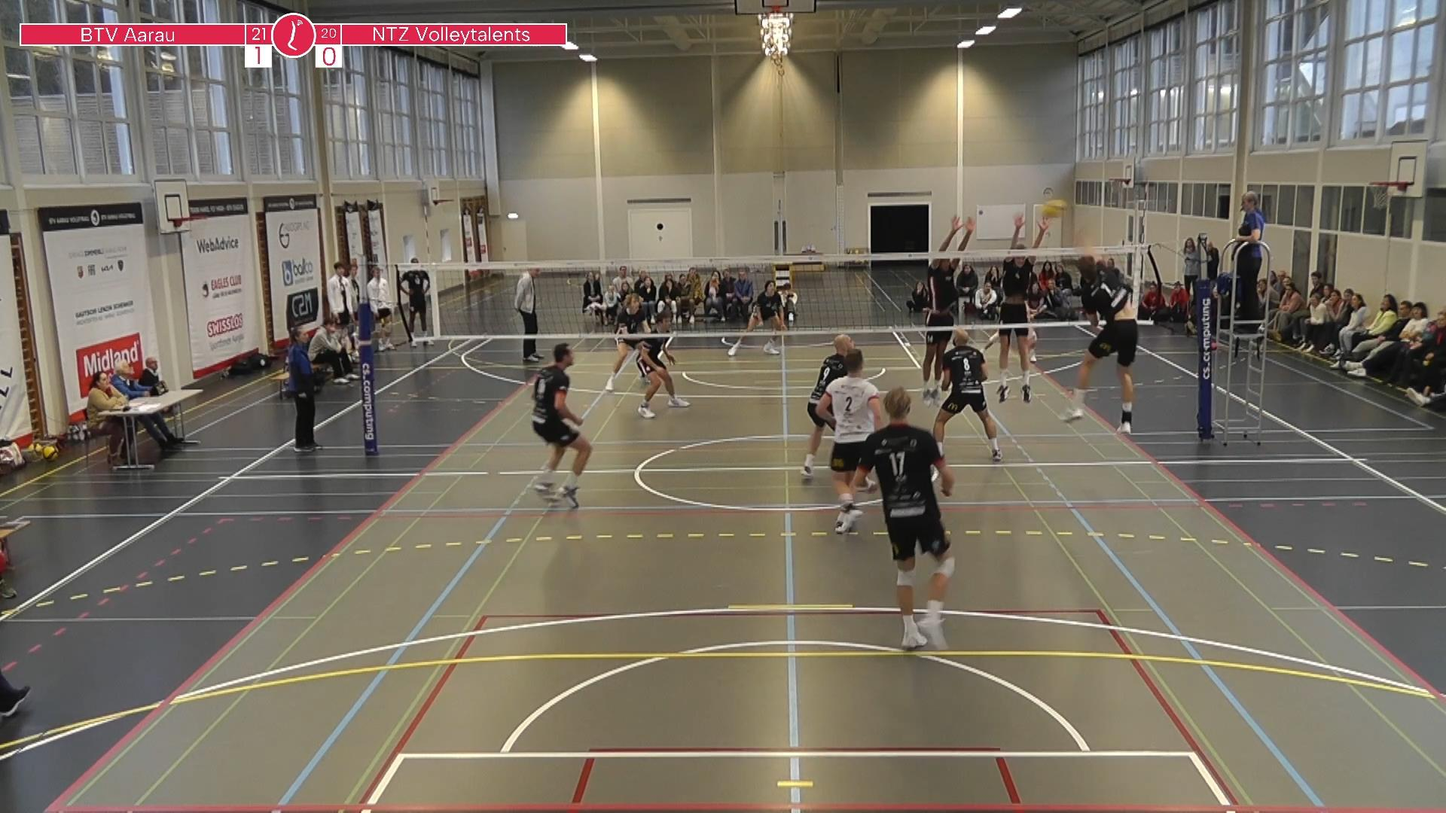Attack: (1047, 223, 1147, 434)
Block: (909, 208, 976, 414), (993, 211, 1051, 410)
Player: (855, 388, 953, 649), (816, 349, 883, 533), (533, 343, 591, 507), (933, 327, 1002, 461), (802, 334, 853, 477), (637, 310, 689, 418), (604, 294, 649, 391), (728, 280, 785, 356)
ball: (1039, 194, 1069, 220)
